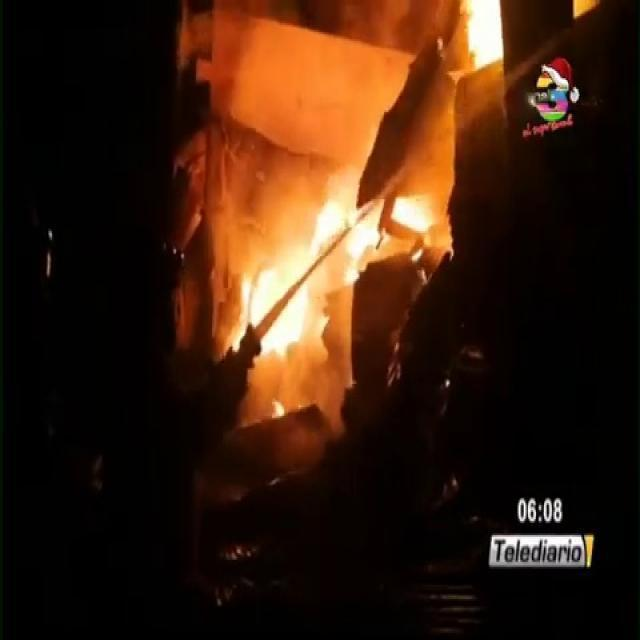Fire: (233, 160, 432, 359), (457, 10, 503, 60)
